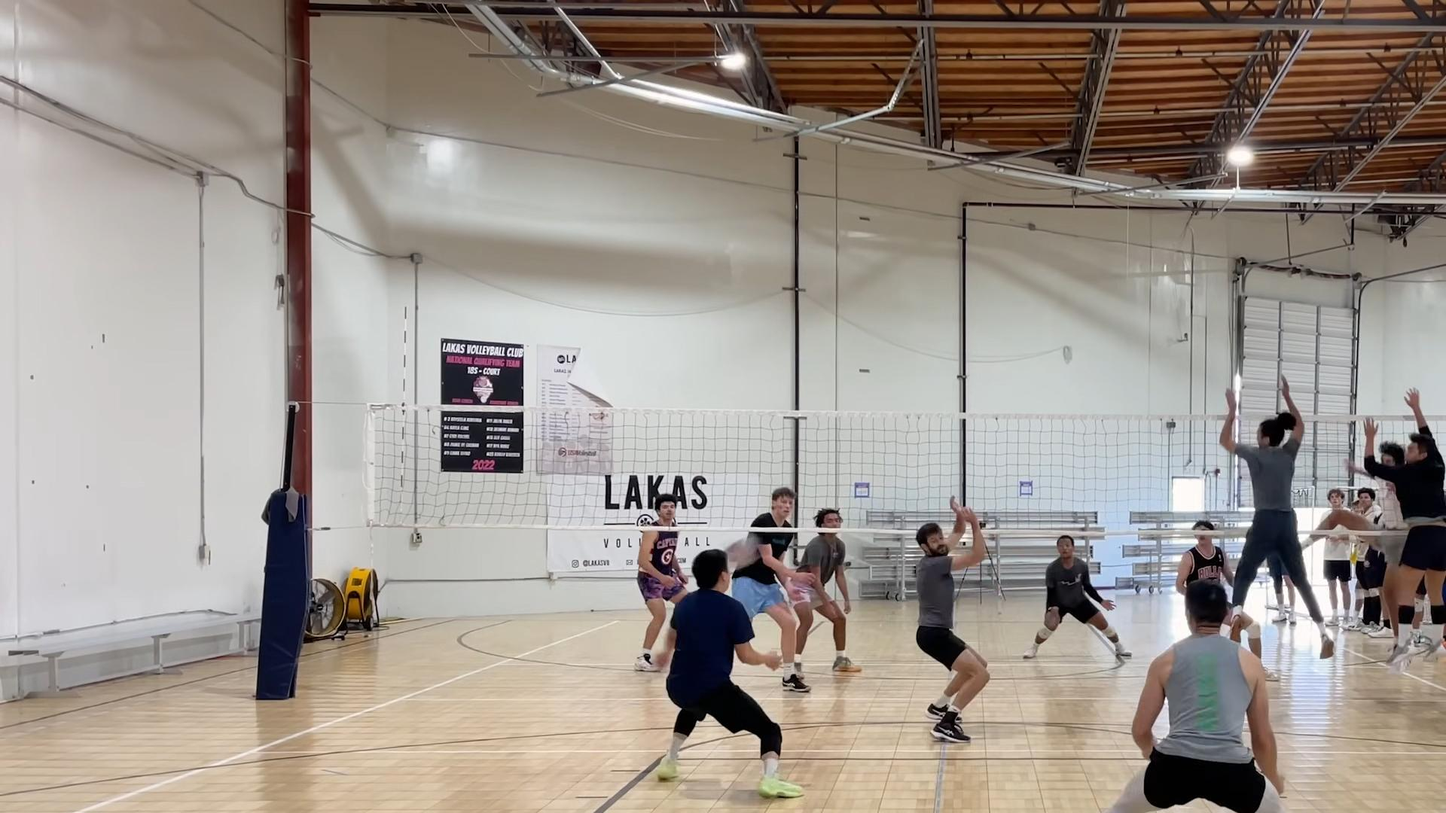attacco: (1368, 480, 1406, 638)
difesa: (647, 548, 811, 802)
muro: (1212, 373, 1338, 665), (1354, 381, 1446, 678)
